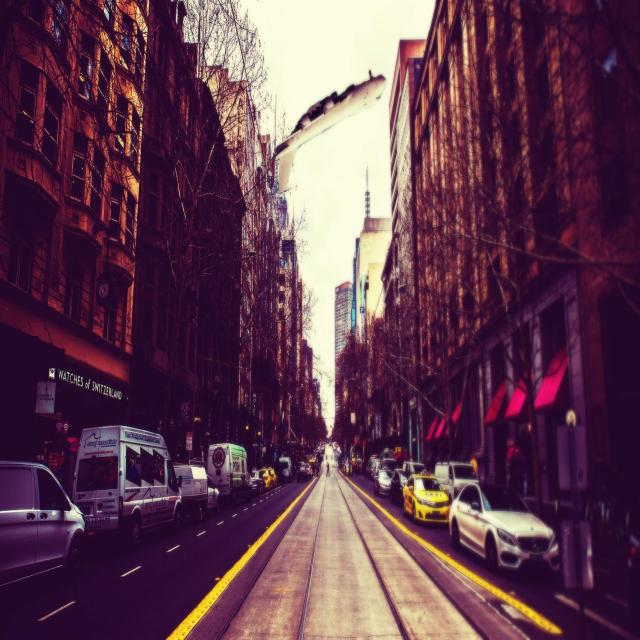airplane: (272, 72, 387, 192)
